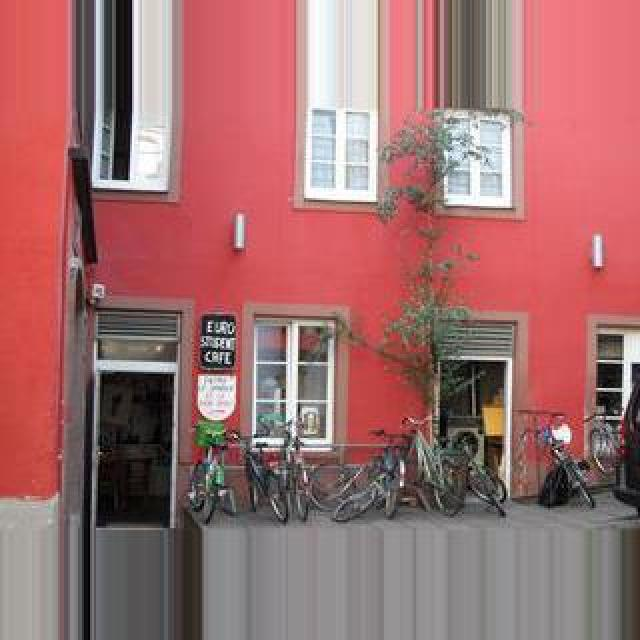Person: (521, 410, 595, 508), (399, 414, 467, 516), (321, 440, 399, 522), (182, 421, 240, 523), (242, 431, 292, 525), (455, 430, 509, 516), (368, 425, 416, 519), (277, 418, 313, 520), (585, 406, 621, 476)
